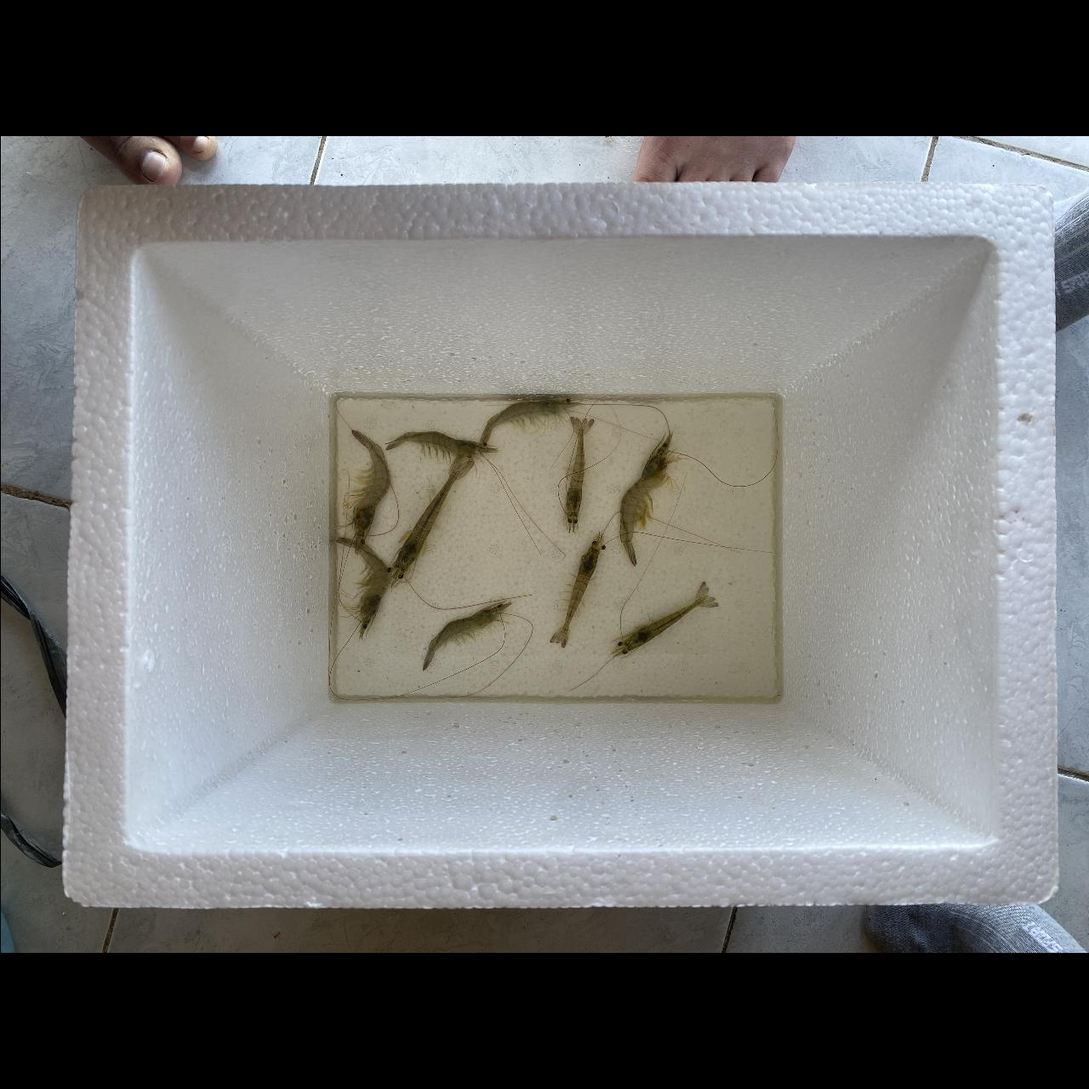side_shrimp: (619, 456, 662, 567), (422, 609, 493, 672), (335, 538, 389, 619), (480, 400, 560, 447), (350, 430, 389, 524), (386, 431, 473, 456)
top_shrimp: (395, 463, 462, 568), (625, 596, 707, 649), (560, 550, 596, 642), (565, 421, 584, 516)
